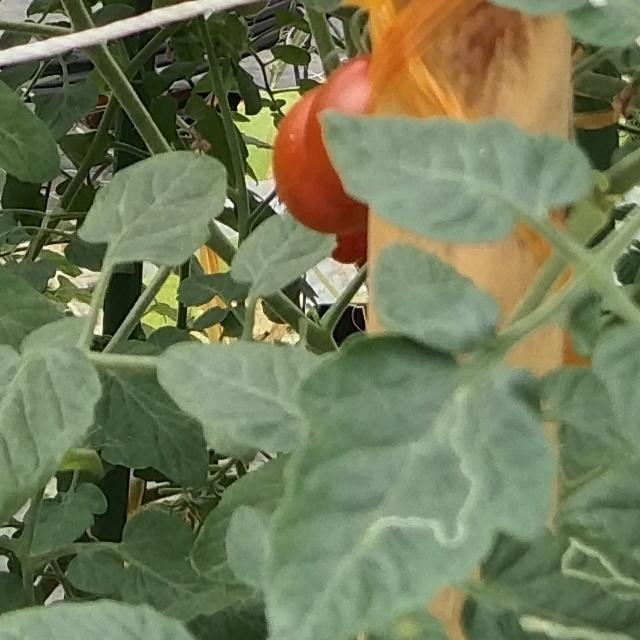Healthy: (312, 102, 597, 245), (148, 335, 321, 455), (77, 152, 228, 270), (369, 243, 505, 351), (220, 205, 341, 301)
Leaf_Miner: (260, 335, 558, 640), (472, 518, 640, 640)
